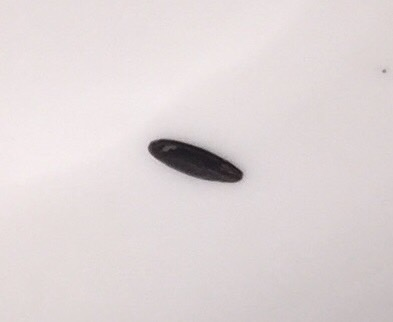Gao Nep Cam: (142, 130, 248, 192)
